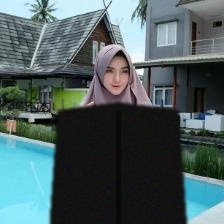Cadar_Niqab: (50, 37, 187, 224)
